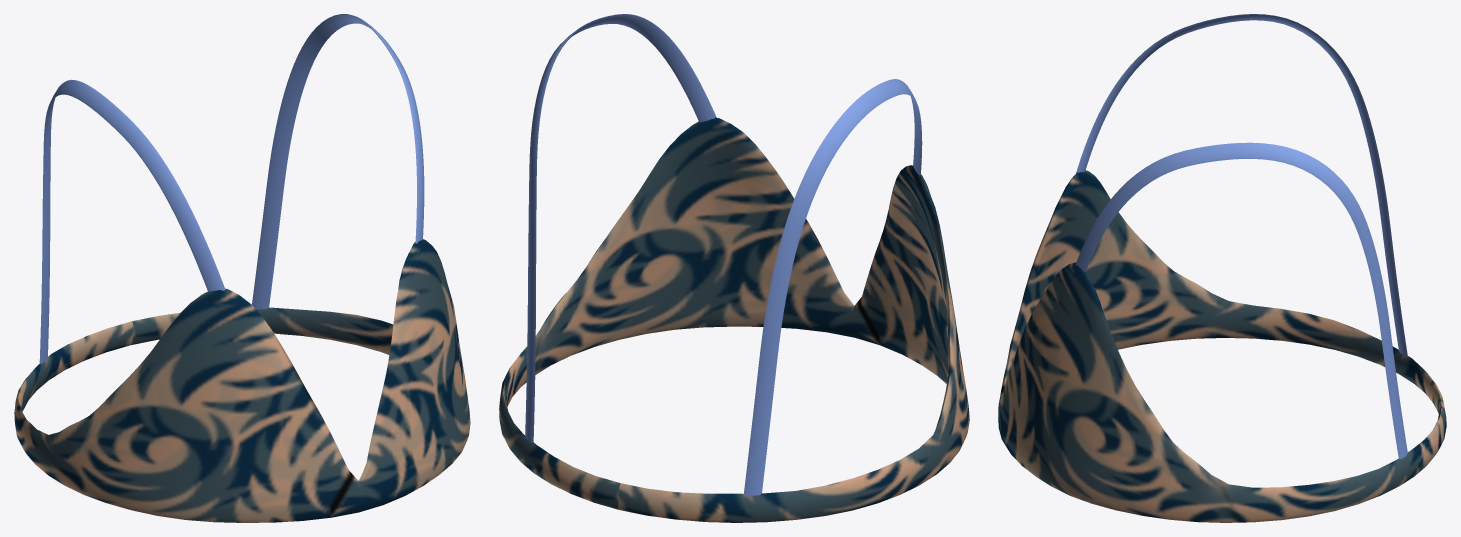
Rendered from Bikini.gltf.
3 renders of one model, left to right at view 1: azimuth 30°, elevation 25°; view 2: azimuth 150°, elevation 25°; view 3: azimuth 270°, elevation 25°, orthographic. The views are drawn at different scales.
Visible parts, largest first — view 1: cloth6-PBR, cloth6-PBR.1; view 2: cloth6-PBR, cloth6-PBR.1; view 3: cloth6-PBR, cloth6-PBR.1.
Part boxes in pixels (<box>): cloth6-PBR: <box>14,239,470,522</box>; cloth6-PBR.1: <box>39,14,424,363</box>; cloth6-PBR: <box>499,117,969,522</box>; cloth6-PBR.1: <box>525,14,922,495</box>; cloth6-PBR: <box>998,170,1446,522</box>; cloth6-PBR.1: <box>1076,14,1407,458</box>.
Bounding box in the file's own units: 5.96 × 5.24 × 6.04.
Materials: 2 (1 with a texture image).
